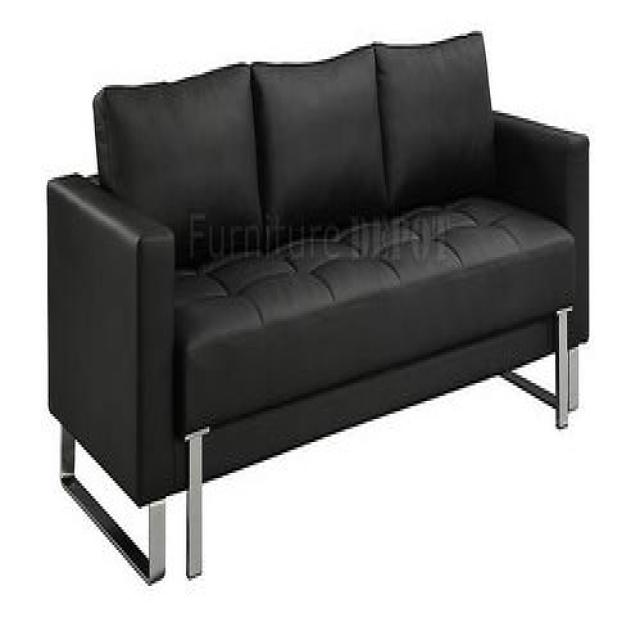sofa: (42, 26, 591, 590)
